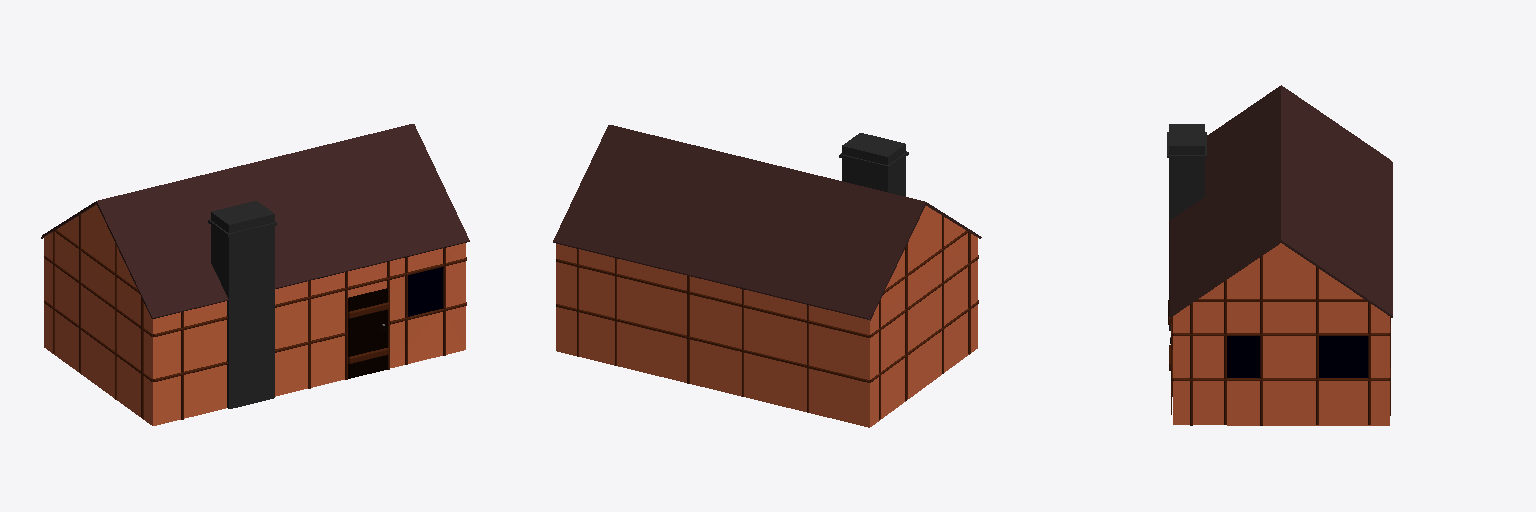
Rendered from VillagerHouseMedWithChimney.obj.
3 renders of one model, left to right at view 1: azimuth 30°, elevation 25°; view 2: azimuth 150°, elevation 25°; view 3: azimuth 270°, elevation 25°, orthographic.
Parts seen in each view (by area): view 1: House1_polySurface10, House1_polySurface10 DoorHinge Door2; view 2: House1_polySurface10; view 3: House1_polySurface10.
Boxes of the visible parts, x1,y1,x2,y2 form: House1_polySurface10: [41, 124, 469, 425]; House1_polySurface10 DoorHinge Door2: [348, 288, 388, 378]; House1_polySurface10: [553, 125, 981, 427]; House1_polySurface10: [1167, 85, 1392, 425].
Size of the model in its own units: 58.3 by 32.79 by 35.97.